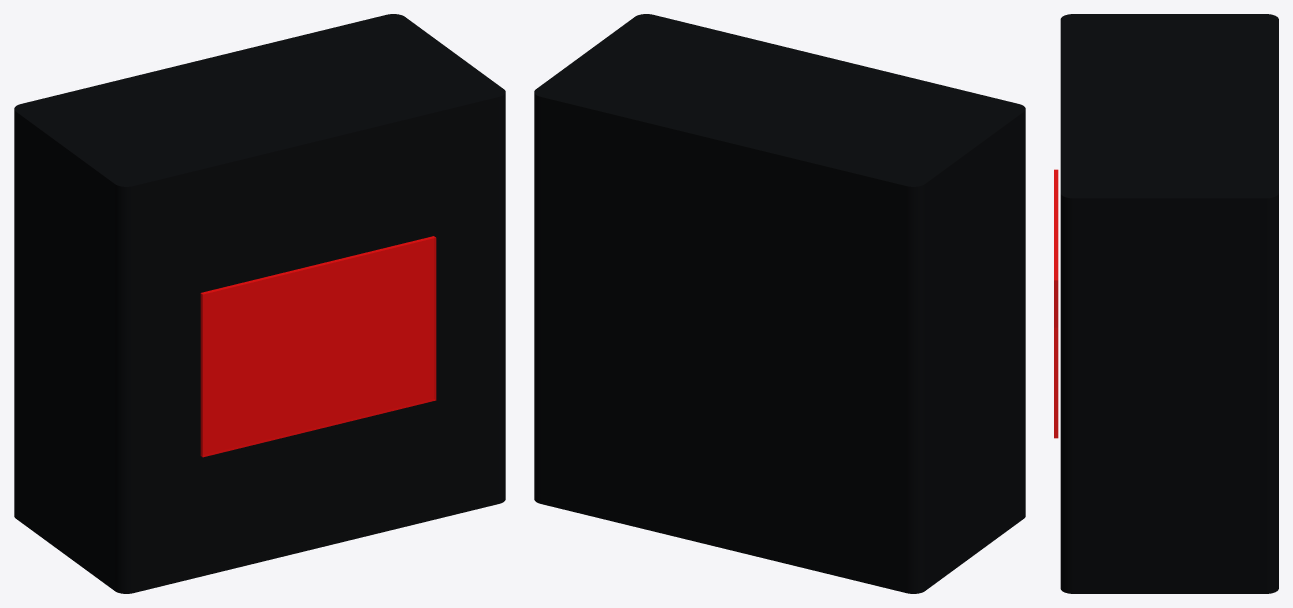
The model's file is dock_module.glb.
3 views of the same model, side by side, from view 1: azimuth 30°, elevation 25°; view 2: azimuth 150°, elevation 25°; view 3: azimuth 270°, elevation 25° (orthographic). The views are drawn at different scales.
Visible parts, largest first — view 1: agvdock; view 2: agvdock; view 3: agvdock.
Boxes of the visible parts, bbox=[...] form: agvdock: bbox=[14, 14, 505, 593]; agvdock: bbox=[534, 14, 1025, 593]; agvdock: bbox=[1054, 14, 1278, 593].
Size of the model in its own units: 0.1 by 0.1 by 0.0515.
